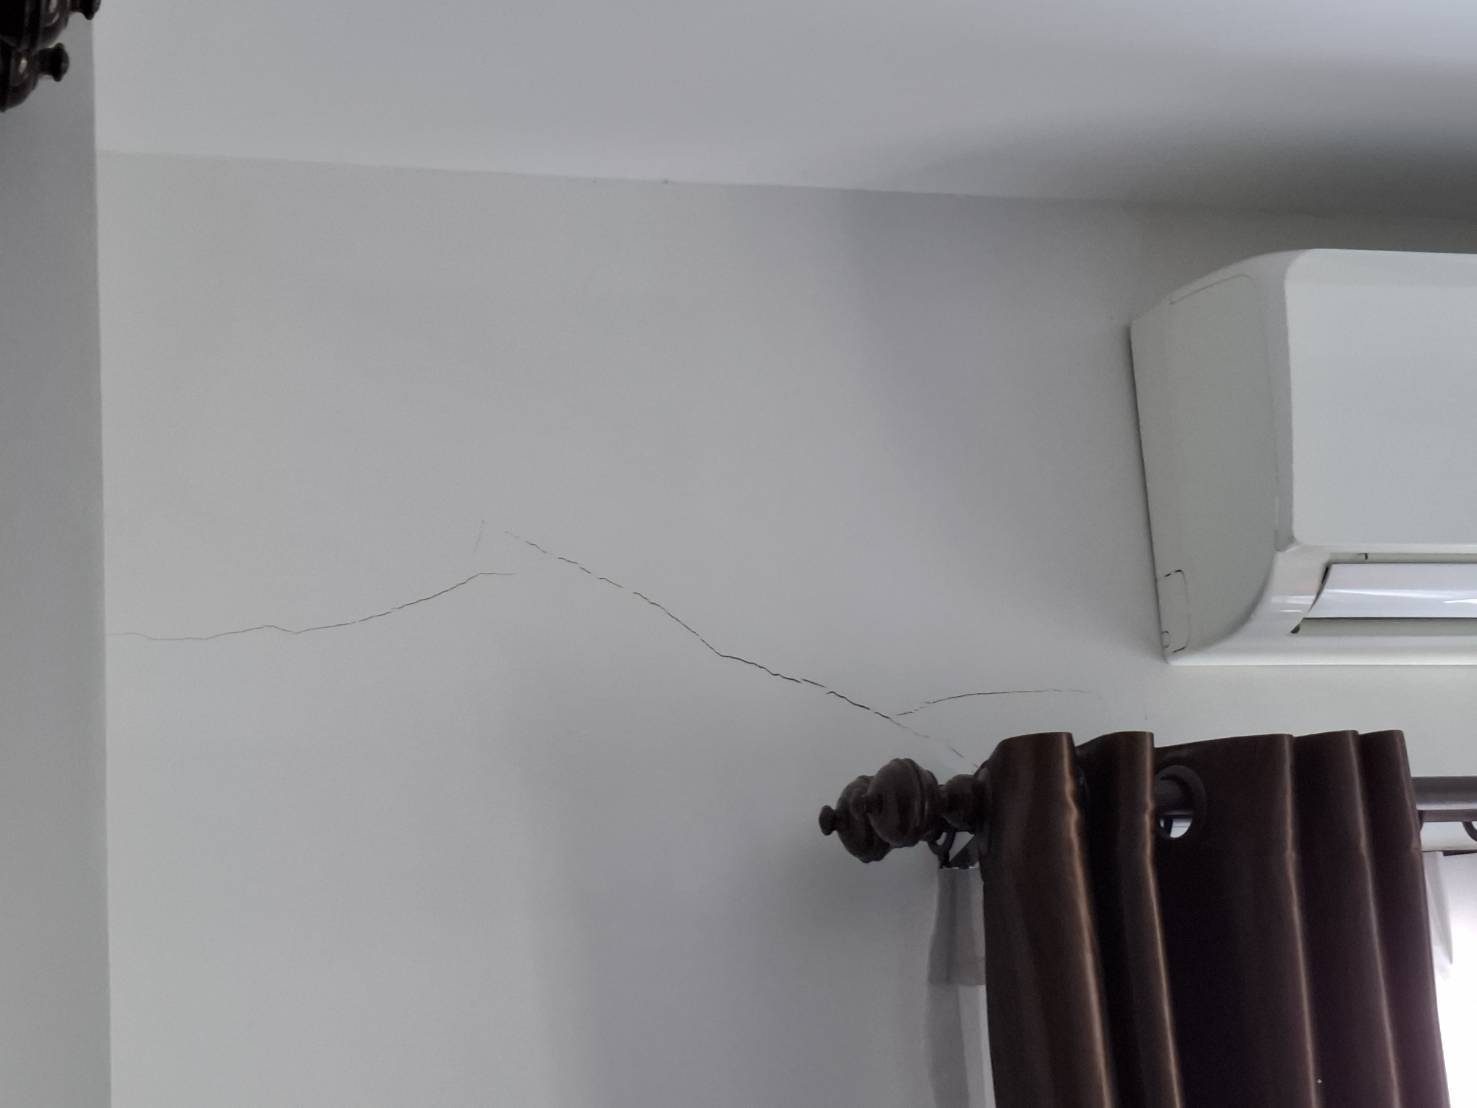Low: (16, 512, 1088, 766)
